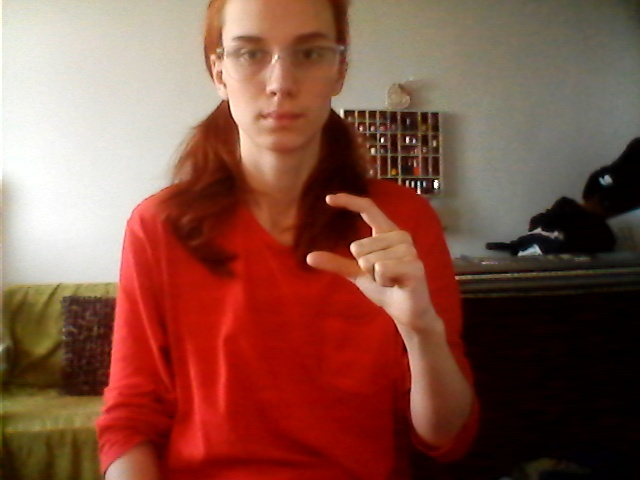c: (296, 190, 436, 326)
